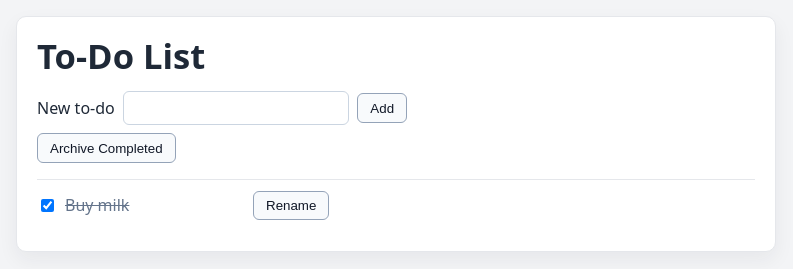
Test: App › it archives completed todo items
This screenshot has width=793, height=269.
Click the button "Archive Completed". click: click(106, 148)
box: [37,133,176,163]
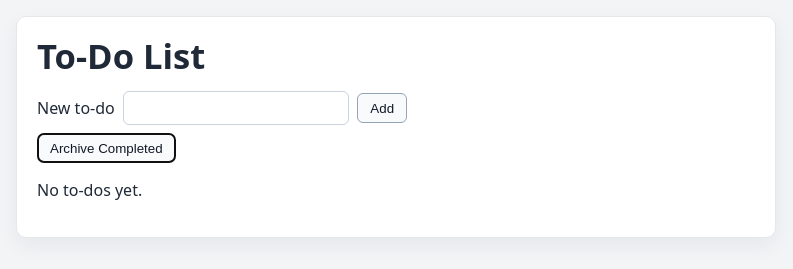
Now the text "No to-dos yet." is shown, box [37,179,142,201]
